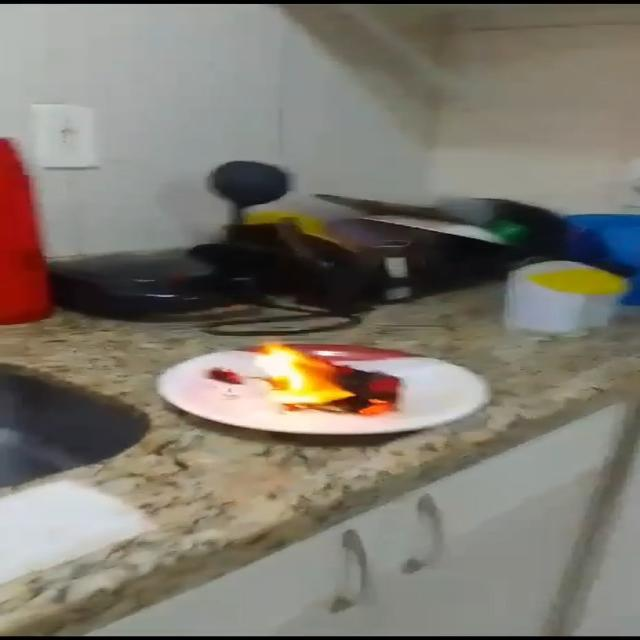fogo-ypXI: (253, 338, 403, 419)
